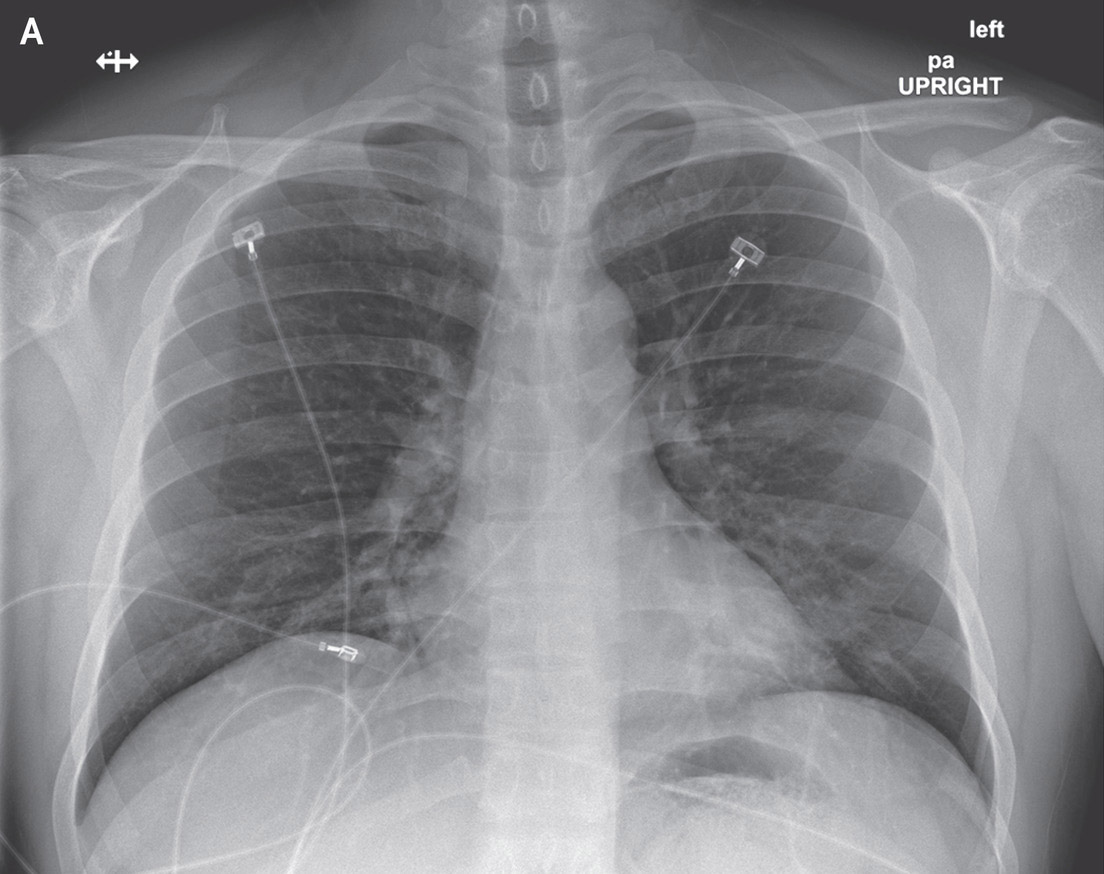Mildw: (79, 118, 489, 820), (591, 112, 994, 778)
